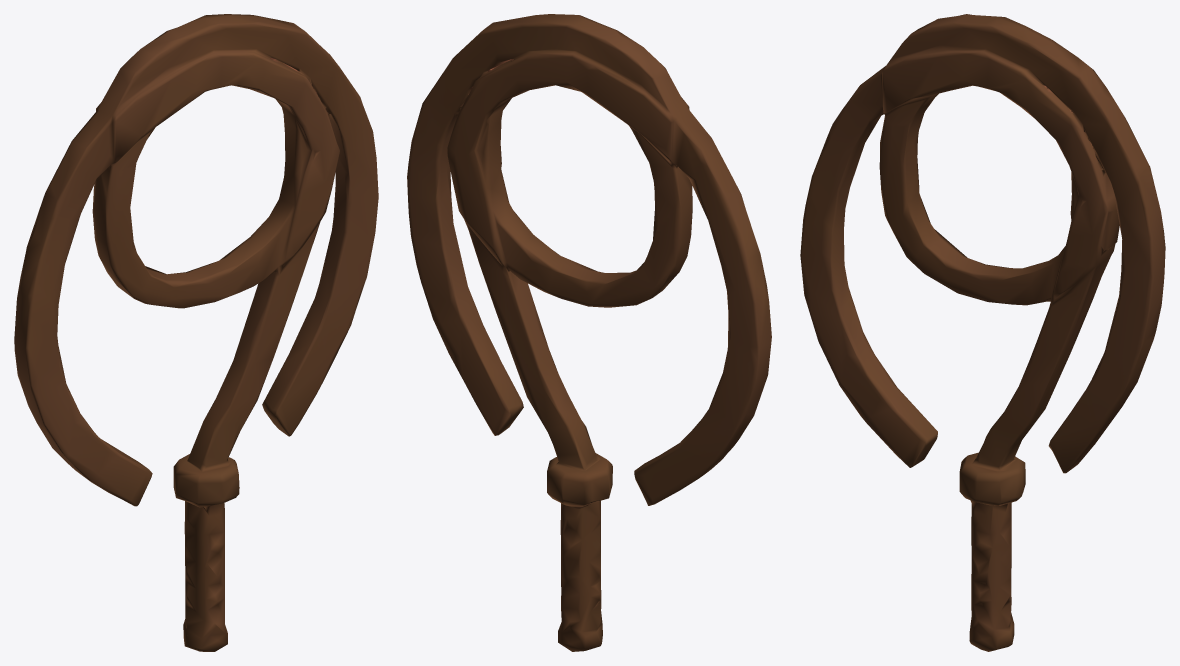
File: gen3d-whip-lod0.glb
3 views of the same model, side by side, from view 1: azimuth 30°, elevation 25°; view 2: azimuth 150°, elevation 25°; view 3: azimuth 330°, elevation 25° (orthographic).
Visible parts, largest first — view 1: part_0; view 2: part_0; view 3: part_0.
Part boxes in pixels (x1=…): part_0: x1=14, y1=14, x2=378, y2=651; part_0: x1=407, y1=14, x2=771, y2=651; part_0: x1=800, y1=14, x2=1165, y2=651.
Size of the model in its own units: 0.5882 by 0.9994 by 0.0992.
